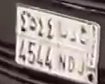4: (44, 17, 56, 74), (17, 10, 29, 63), (34, 16, 45, 70)
5: (26, 15, 37, 66)
D: (67, 30, 78, 74)
J: (76, 24, 89, 78)
N: (55, 22, 69, 76)
